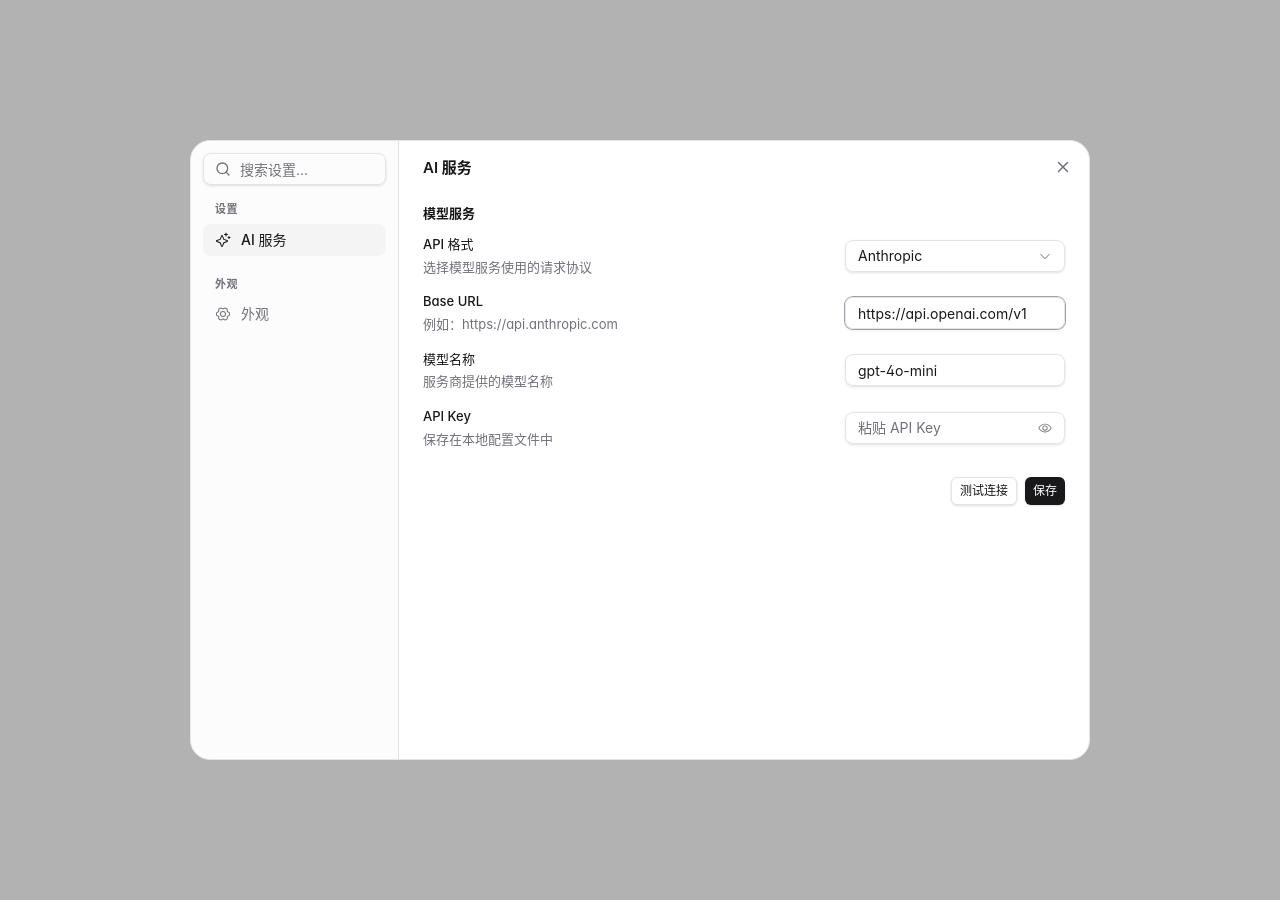
Test: SettingsModal › changes the interface language from Appearance settings
This screenshot has width=1280, height=900.
Click the button "外观" at [294, 314], box [203,298,386,330]
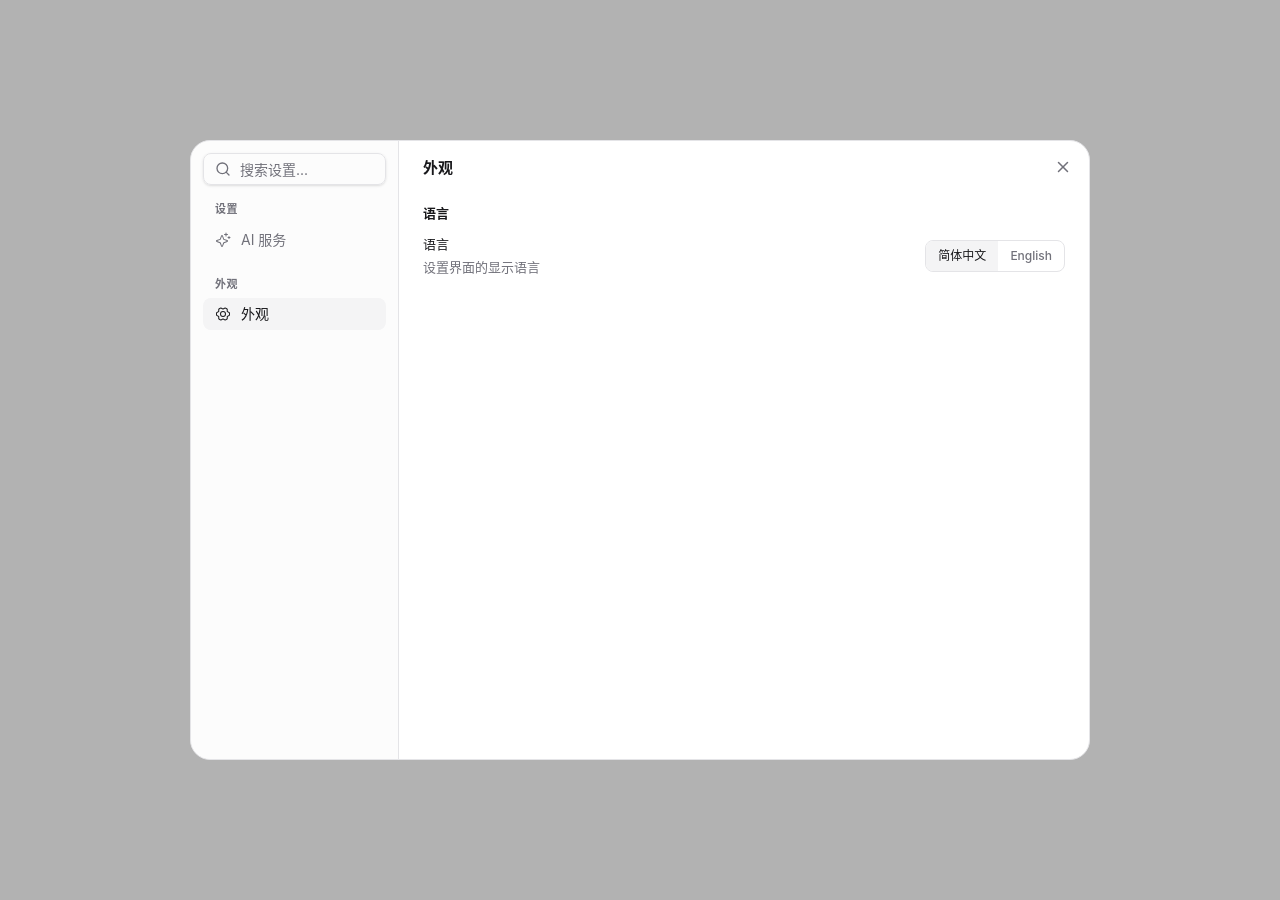
Click the button "English" at [1031, 256], box [998,241,1064,271]
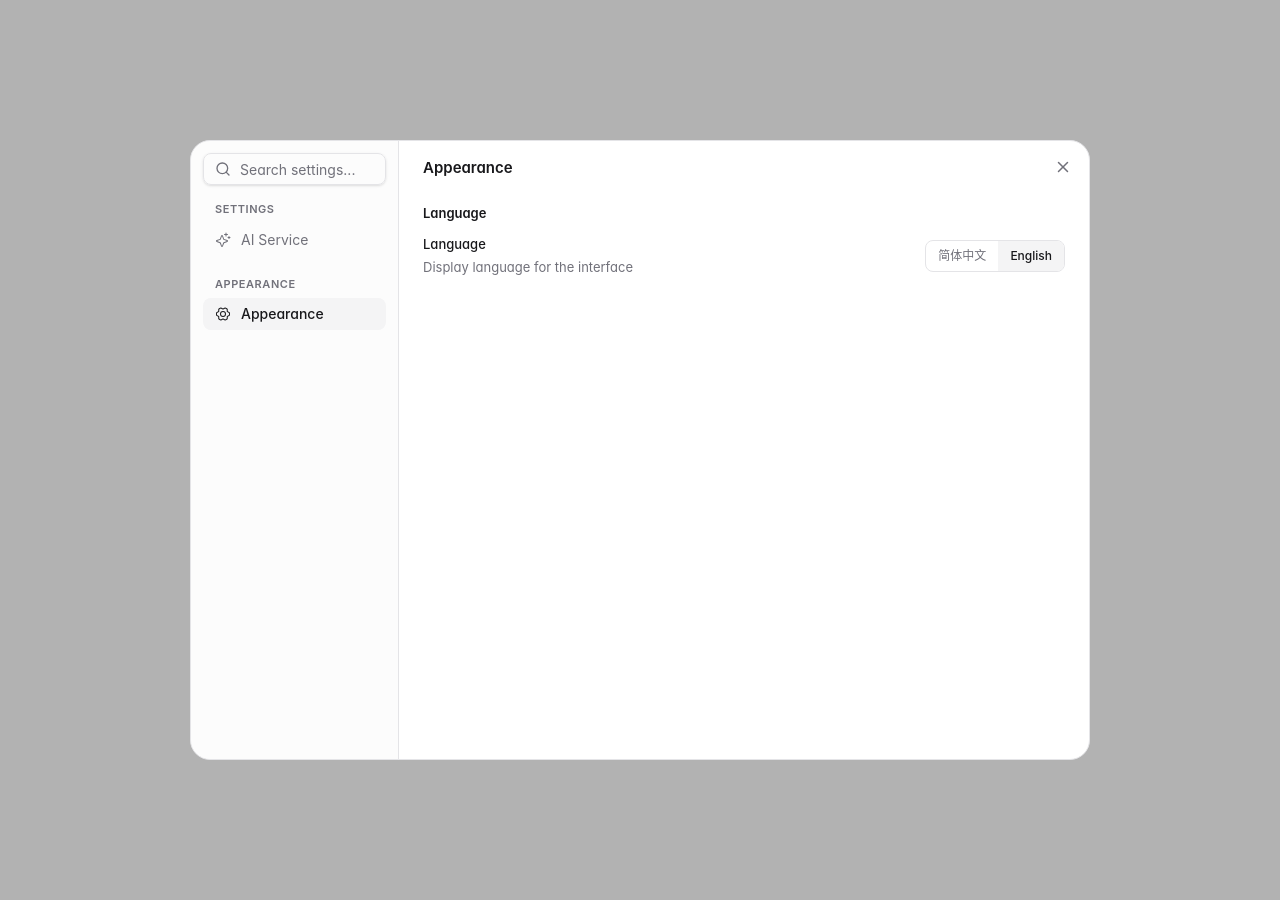
Expected: the heading "Appearance" is shown, [423,158,513,177]
